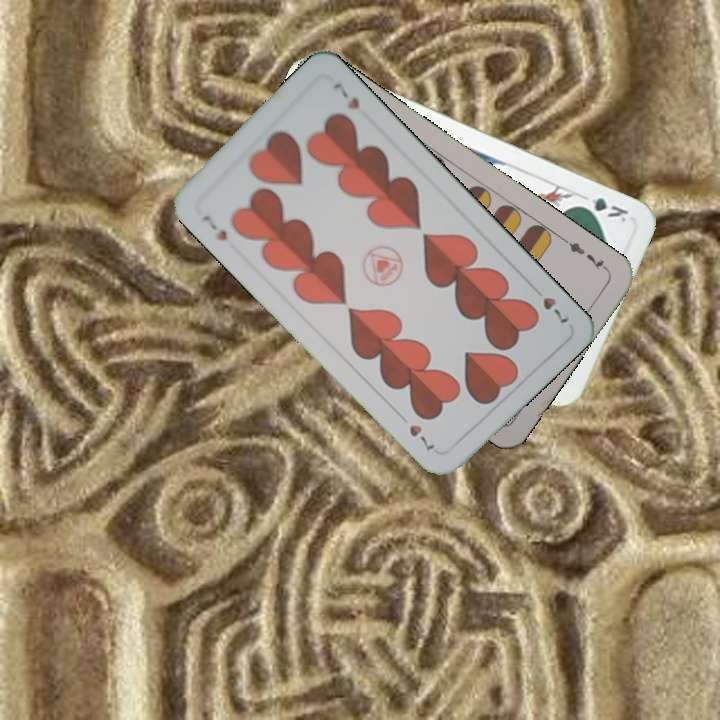E7: (560, 235, 611, 274)
GK: (573, 193, 631, 225)
H7: (526, 282, 572, 326), (198, 210, 230, 244)
